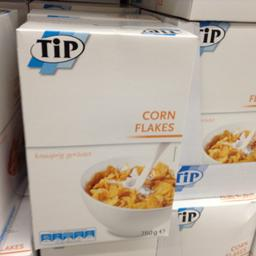cereal: (12, 16, 196, 250)
